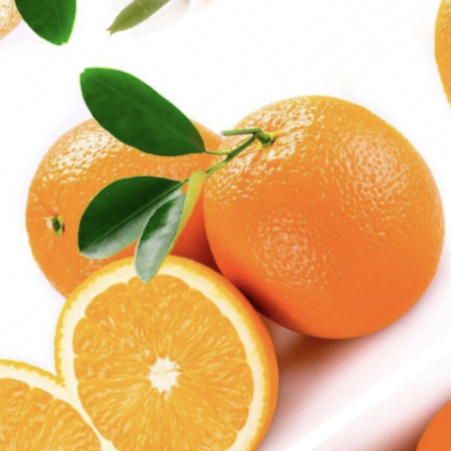orange: (127, 19, 451, 407), (0, 42, 321, 384)
